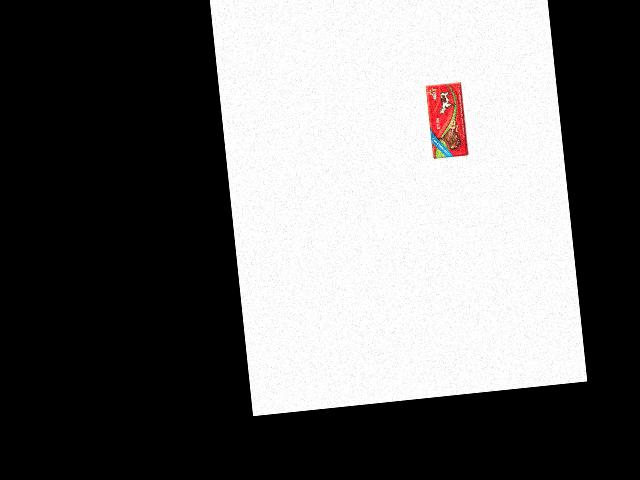chocolate: (424, 78, 467, 158)
